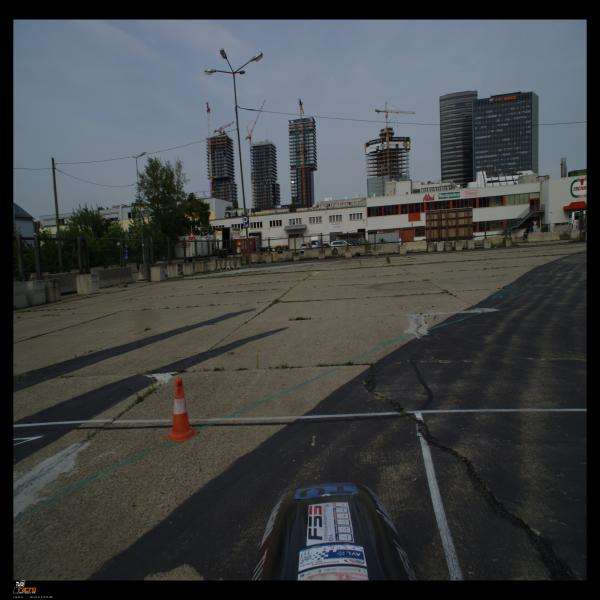orange_cone: (163, 377, 200, 442)
